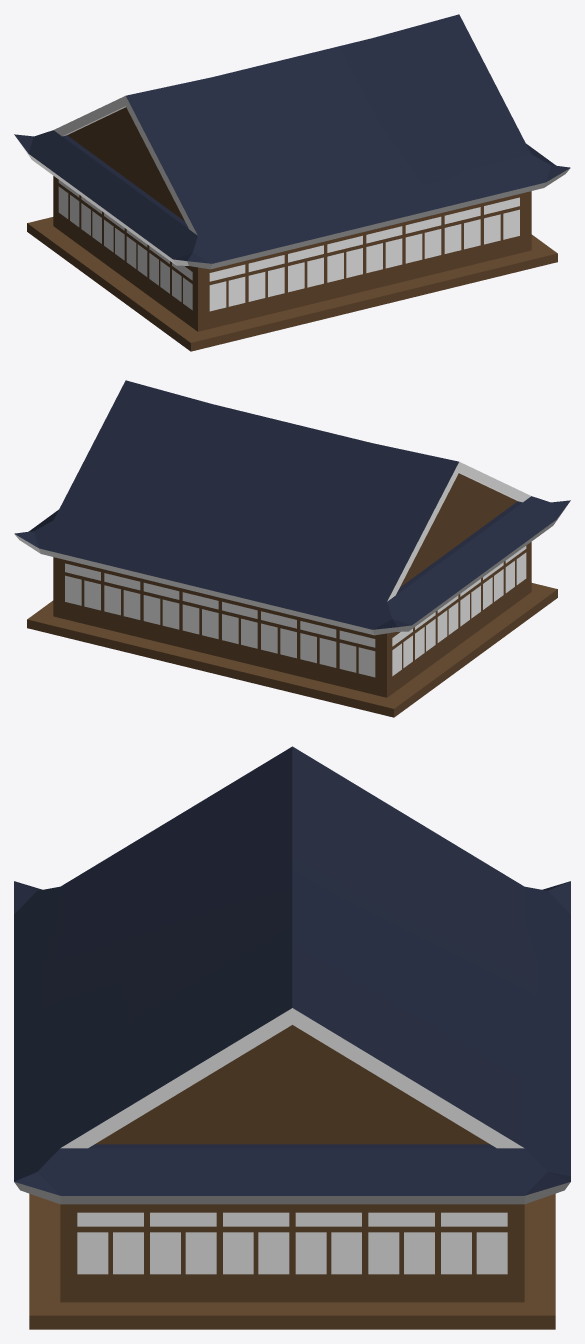
The model's file is japan_building-japan_large.fbx.
3 views of the same model, one above another, from view 1: azimuth 30°, elevation 25°; view 2: azimuth 150°, elevation 25°; view 3: azimuth 270°, elevation 25° (orthographic). The views are drawn at different scales.
Parts seen in each view (by area): view 1: japan_building_japan_large; view 2: japan_building_japan_large; view 3: japan_building_japan_large.
Part boxes in pixels (bbox=[...]): japan_building_japan_large: bbox=[14, 14, 570, 351]; japan_building_japan_large: bbox=[14, 380, 570, 717]; japan_building_japan_large: bbox=[14, 746, 570, 1329].
Size of the model in its own units: 200 by 95.67 by 157.
